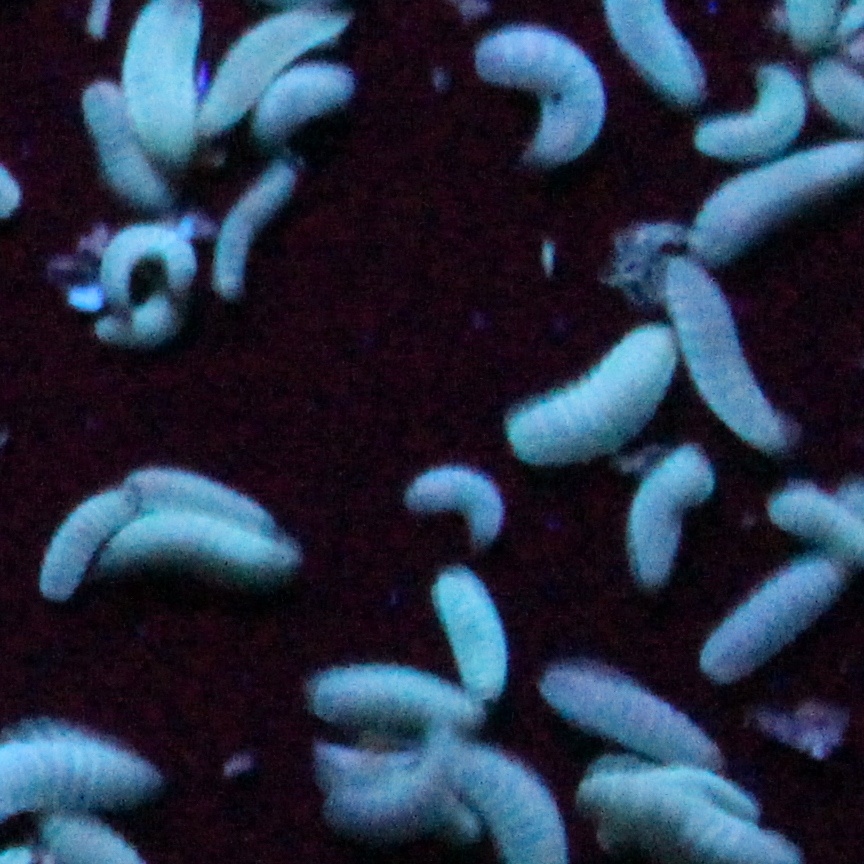larve: (670, 257, 794, 455), (505, 323, 674, 461), (198, 13, 351, 145), (702, 553, 851, 688), (545, 661, 725, 768), (476, 23, 607, 161), (309, 649, 484, 729), (100, 514, 304, 580), (625, 447, 717, 580), (117, 463, 280, 535), (74, 82, 170, 204), (37, 488, 139, 600), (215, 166, 294, 300), (429, 570, 511, 698), (690, 66, 804, 157), (104, 227, 194, 329), (405, 464, 505, 543), (251, 64, 351, 141), (329, 782, 441, 835), (313, 739, 417, 778), (102, 296, 184, 341), (678, 770, 756, 817)
